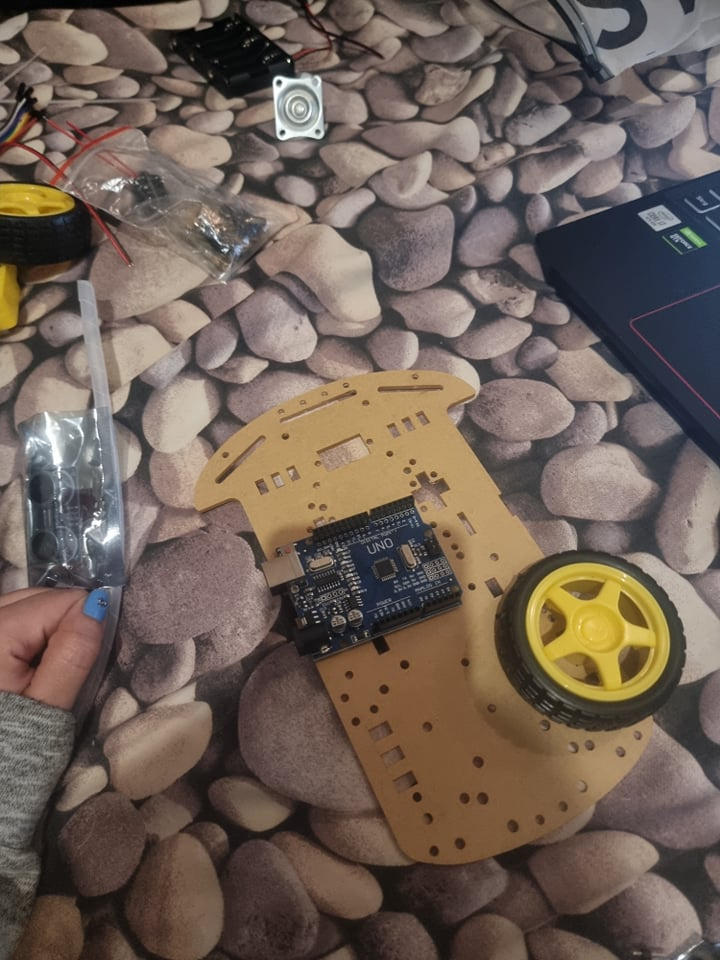BATTERY BOX: (169, 13, 300, 101)
SENSOR: (23, 465, 83, 574)
UNO R3: (256, 490, 463, 661)
